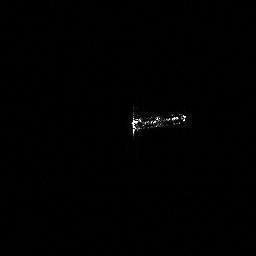ship: (124, 113, 190, 134)
